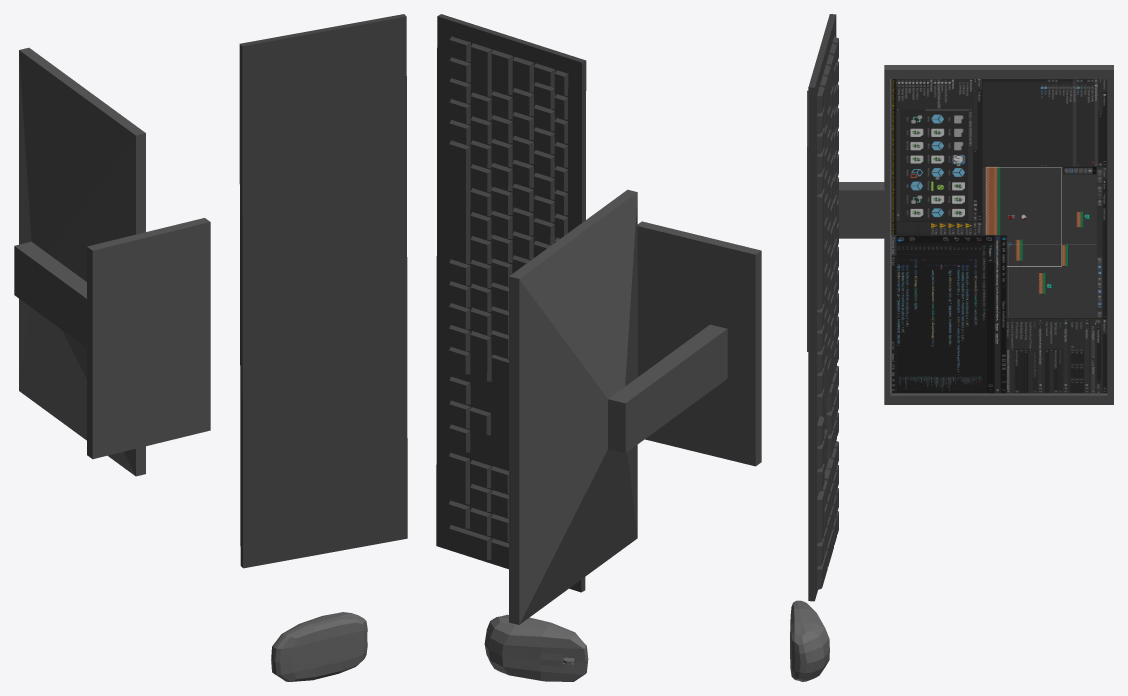
Rendered from AR-stamprally-Unity競争.glb.
3 renders of one model, left to right at view 1: azimuth 30°, elevation 25°; view 2: azimuth 150°, elevation 25°; view 3: azimuth 270°, elevation 25°, orthographic. The views are drawn at different scales.
Visible parts, largest first — view 1: 立方体.001, 立方体, 円柱; view 2: 立方体, 立方体.001, 円柱; view 3: 立方体, 立方体.001, 円柱.
Boxes of the visible parts, <box> form: 立方体.001: <box>239,14,407,568</box>; 立方体: <box>14,47,210,476</box>; 円柱: <box>271,612,367,681</box>; 立方体: <box>509,189,761,624</box>; 立方体.001: <box>436,14,586,592</box>; 円柱: <box>484,614,588,681</box>; 立方体: <box>807,65,1113,404</box>; 立方体.001: <box>808,14,838,601</box>; 円柱: <box>790,600,829,681</box>.
Size of the model in its own units: 3.18 by 6.08 by 2.86.
Materials: 4 (1 with a texture image).
